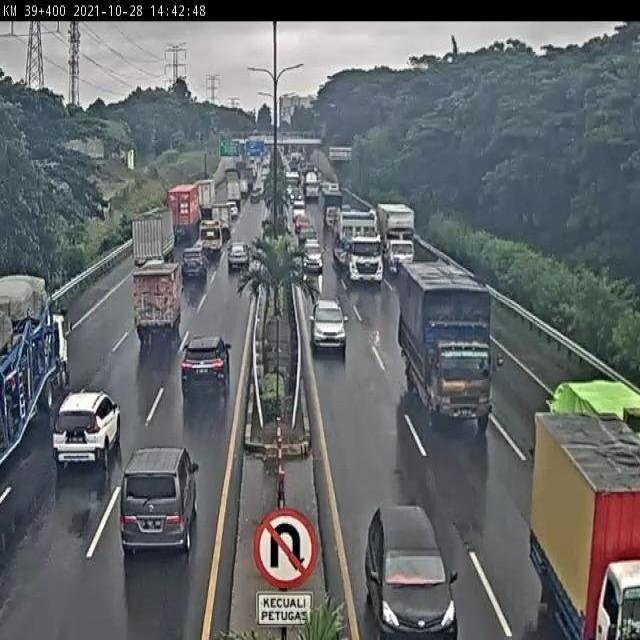big truck: (0, 275, 69, 472)
car: (367, 508, 459, 640), (118, 444, 197, 553), (52, 391, 122, 464), (181, 337, 227, 395), (310, 300, 348, 353), (185, 242, 210, 274), (228, 238, 252, 270), (303, 241, 326, 272)
mid truck: (196, 218, 224, 250)
truck-l-: (398, 261, 492, 431), (379, 205, 419, 278)
truck-m-: (134, 260, 182, 340), (132, 212, 176, 261)
truck-xl-: (331, 211, 386, 284)
